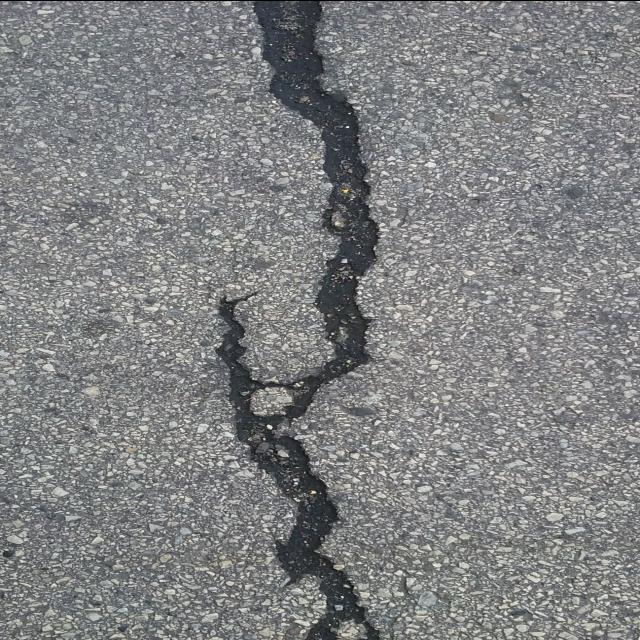Crack: (215, 0, 385, 640)
